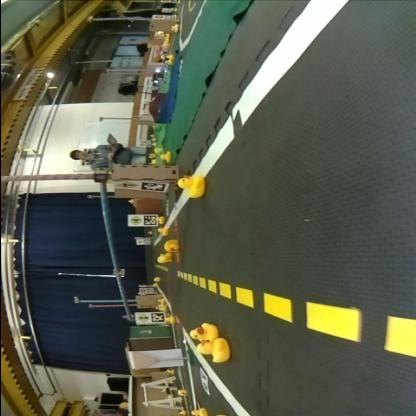Duckie: (195, 338, 226, 362), (177, 176, 203, 198), (188, 324, 213, 342), (162, 240, 176, 252), (188, 408, 204, 416), (156, 254, 170, 263), (159, 152, 169, 163), (157, 228, 165, 236), (164, 318, 172, 324), (176, 390, 184, 396), (155, 218, 162, 224)
Intersection sign: (113, 182, 136, 189), (128, 216, 140, 226)
QR code: (138, 184, 164, 192), (198, 369, 206, 395), (149, 314, 162, 323), (142, 216, 154, 224)
Signal sign: (135, 314, 148, 323)
